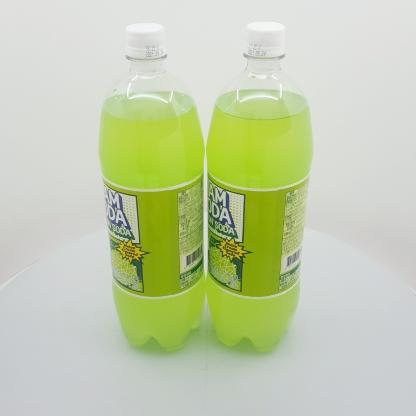-----------: (205, 21, 313, 352), (98, 23, 206, 352)
